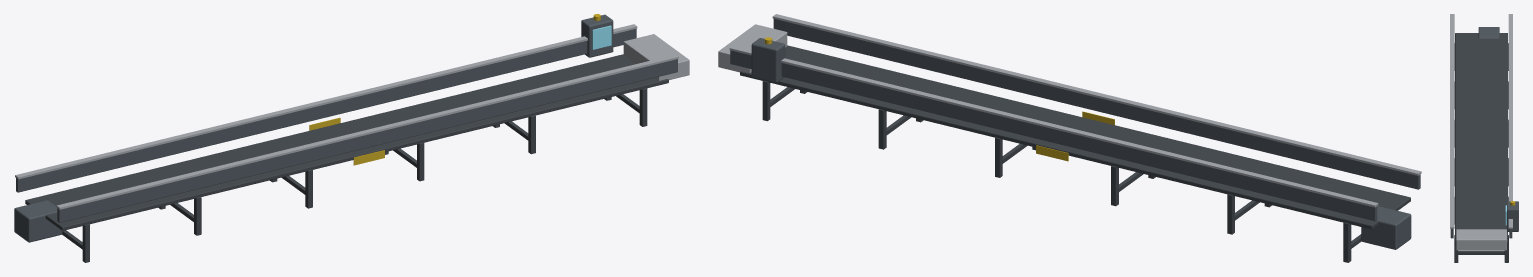
File: conveyor.glb
3 renders of one model, left to right at view 1: azimuth 30°, elevation 25°; view 2: azimuth 150°, elevation 25°; view 3: azimuth 270°, elevation 25°, orthographic. The views are drawn at different scales.
Visible parts, largest first — view 1: cv_bed, cv_rail_-1, cv_rail_1, cv_rail_cap_-1, cv_rail_cap_1, cv_chute, cv_motor, cv_ctrl_box, cv_ctrl_screen; view 2: cv_bed, cv_rail_-1, cv_rail_1, cv_rail_cap_-1, cv_rail_cap_1, cv_motor, cv_ctrl_box, cv_chute; view 3: cv_bed, cv_chute, cv_rail_cap_-1, cv_rail_cap_1, cv_ctrl_box, cv_motor, cv_cross_5, cv_leg_5_-1, cv_leg_5_1.
Boxes of the visible parts, x1,y1,x2,y2 form: cv_bed: (25, 54, 668, 230); cv_rail_-1: (57, 59, 677, 222); cv_rail_1: (16, 28, 636, 192); cv_rail_cap_-1: (56, 54, 678, 209); cv_rail_cap_1: (15, 24, 637, 179); cv_chute: (623, 34, 689, 80); cv_motor: (14, 200, 62, 242); cv_ctrl_box: (581, 14, 613, 57); cv_ctrl_screen: (592, 25, 611, 49); cv_bed: (740, 45, 1410, 229); cv_rail_-1: (773, 19, 1420, 189); cv_rail_1: (730, 50, 1377, 221); cv_rail_cap_-1: (772, 14, 1421, 175); cv_rail_cap_1: (729, 45, 1378, 207); cv_motor: (1361, 206, 1411, 249); cv_ctrl_box: (751, 38, 785, 82); cv_chute: (718, 24, 787, 72); cv_bed: (1455, 33, 1507, 244); cv_chute: (1456, 229, 1506, 250); cv_rail_cap_-1: (1450, 14, 1454, 228); cv_rail_cap_1: (1508, 14, 1512, 228); cv_ctrl_box: (1507, 201, 1518, 231); cv_motor: (1478, 27, 1499, 38); cv_cross_5: (1458, 251, 1504, 254); cv_leg_5_-1: (1454, 235, 1458, 262); cv_leg_5_1: (1504, 235, 1508, 262).
Size of the model in its own units: 10.43 by 1.27 by 1.37.
